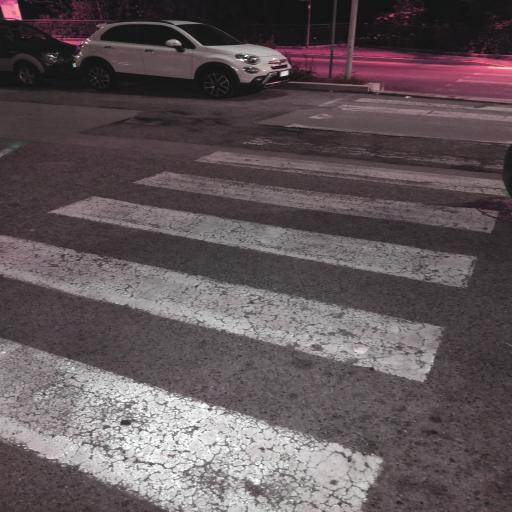crosswalk: (28, 164, 509, 296)
